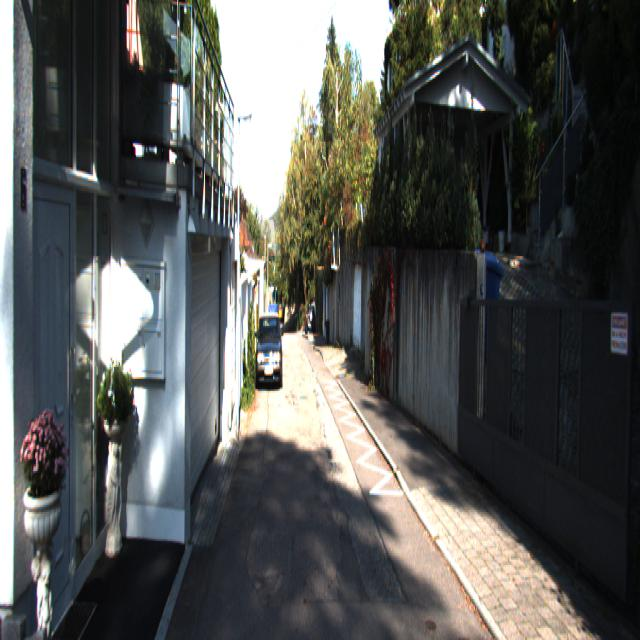Car: (255, 310, 282, 392)
